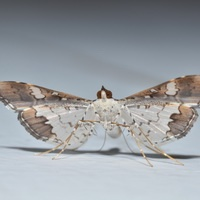insect: (0, 75, 199, 166)
